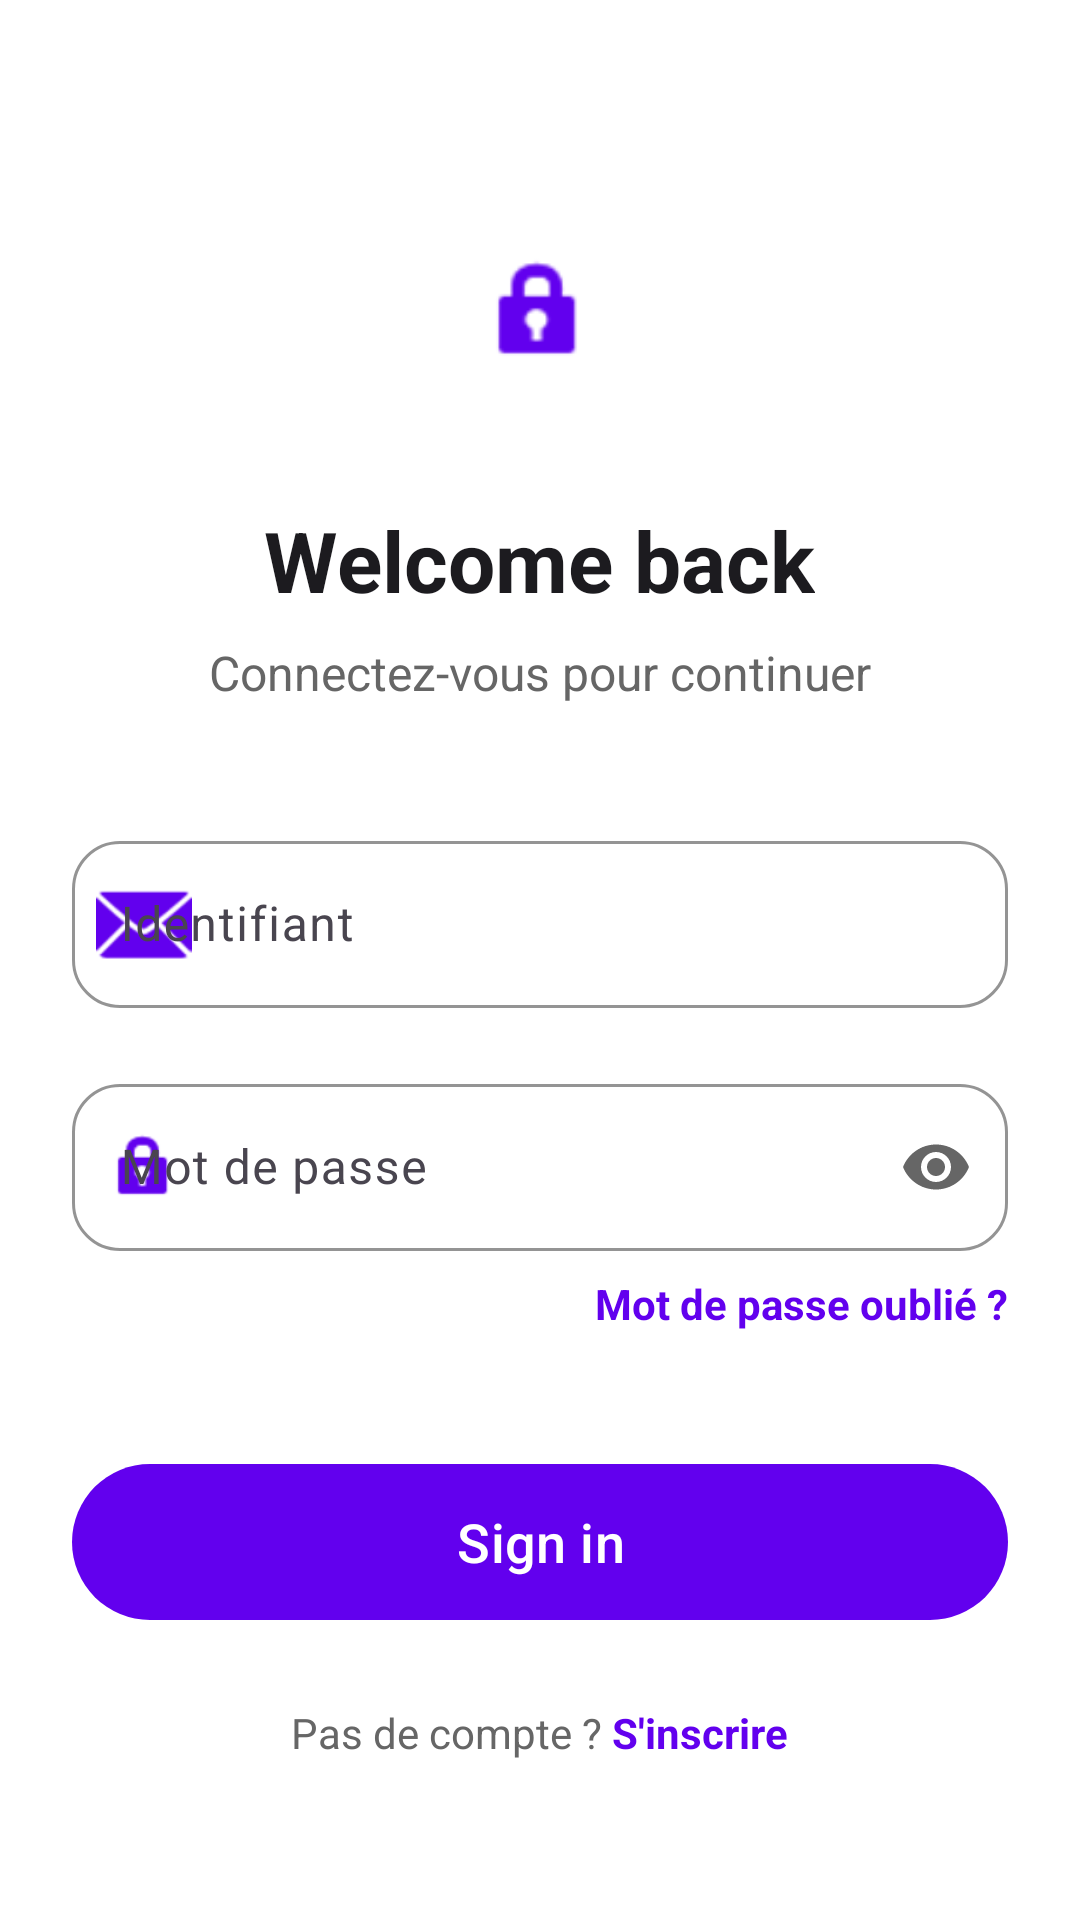

Icon click points for this 1080×1920 phone screenshot, format point (x, y):
lock idle: point (537, 308)
